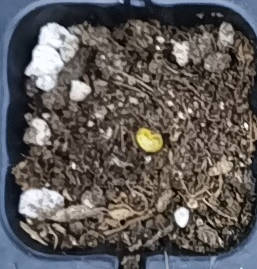pepper seed: (53, 50, 217, 204)
